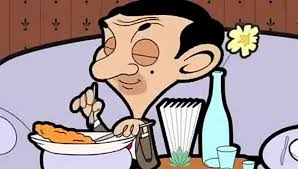mrbean: (69, 1, 225, 168)
